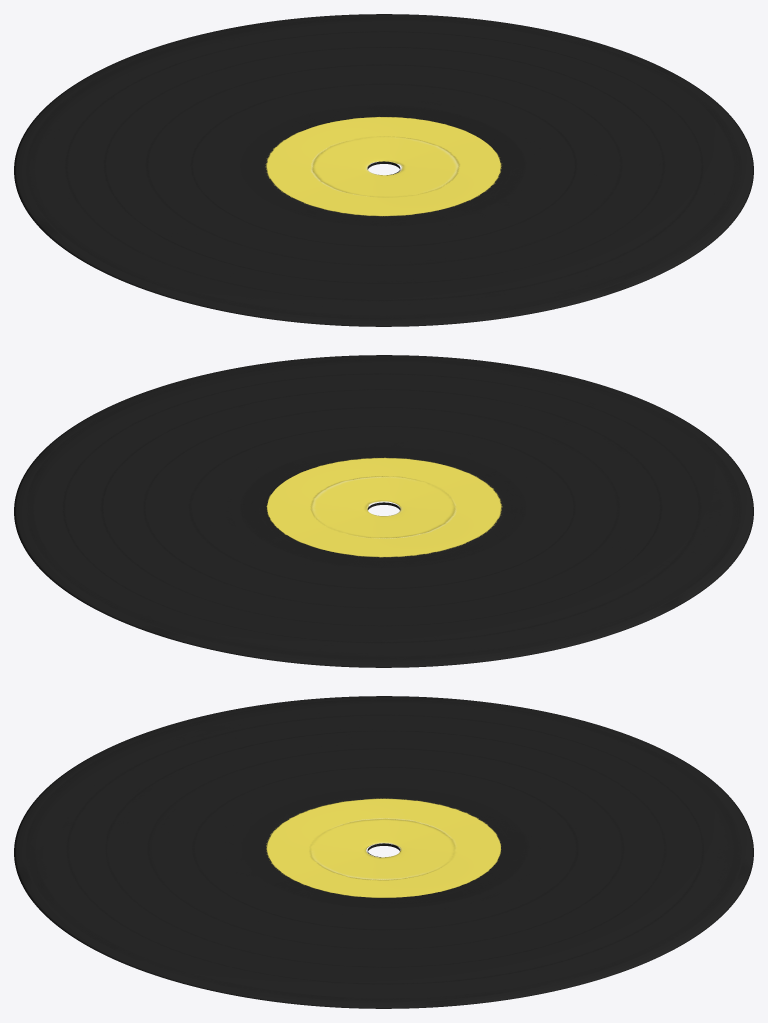
Rendered from Classic Record.fbx.
3 renders of one model, top to bottom at view 1: azimuth 30°, elevation 25°; view 2: azimuth 150°, elevation 25°; view 3: azimuth 270°, elevation 25°, orthographic.
Visible parts, largest first — view 1: Classic Record; view 2: Classic Record; view 3: Classic Record.
Boxes of the visible parts, <box> form: Classic Record: <box>14,14,753,326</box>; Classic Record: <box>14,355,753,667</box>; Classic Record: <box>14,696,753,1008</box>.
Bounding box in the file's own units: 91.13 × 1.17 × 91.13.
